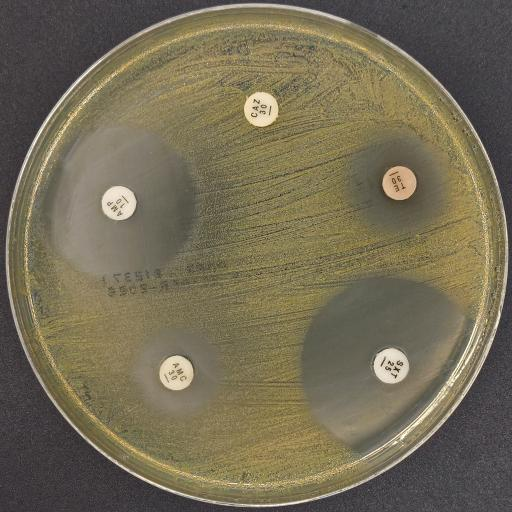disc: (371, 347, 409, 384), (244, 91, 278, 127), (158, 355, 194, 389), (382, 166, 416, 200), (102, 186, 136, 220)
